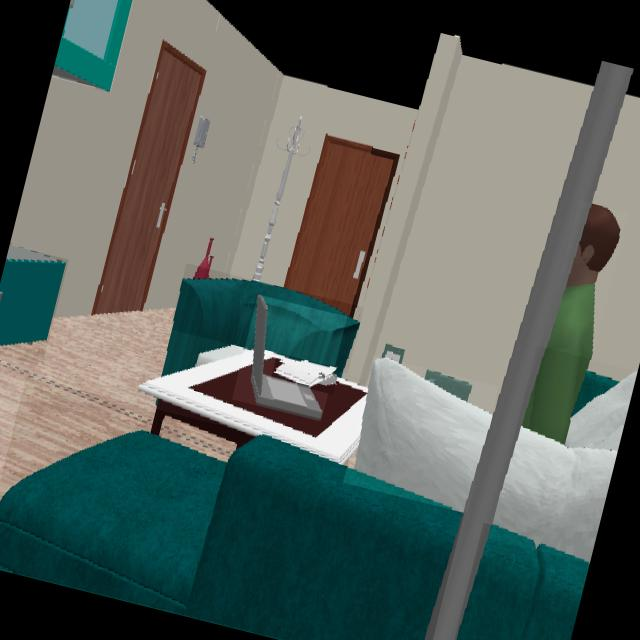book: (271, 358, 337, 389)
cabinet: (53, 0, 133, 91), (0, 245, 67, 349)
laptop: (248, 296, 322, 420)
person: (522, 204, 620, 446)
pillow: (492, 371, 636, 563), (353, 358, 491, 511)
sofa: (0, 431, 461, 640), (160, 279, 357, 376), (456, 526, 589, 640)
table: (137, 346, 366, 466)
